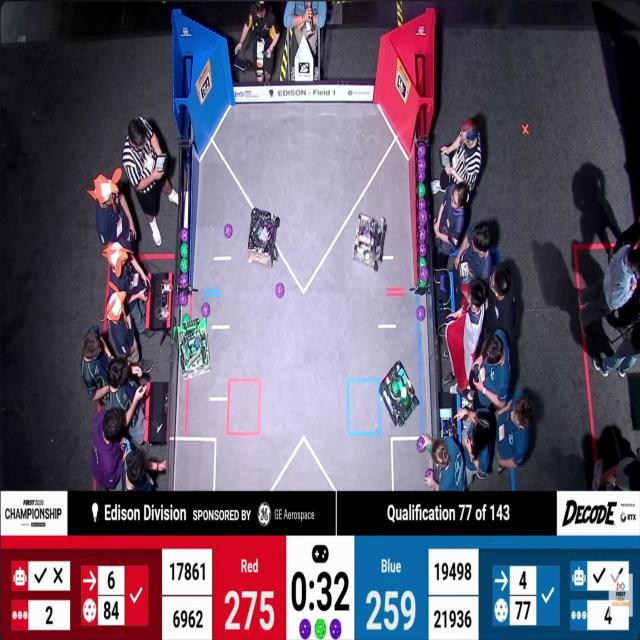artifact_green: (315, 619, 326, 639), (418, 210, 427, 230), (178, 291, 189, 307), (416, 436, 426, 453), (400, 390, 410, 406), (181, 313, 191, 326), (180, 242, 188, 258), (419, 267, 428, 281), (179, 274, 188, 287), (392, 380, 400, 394), (180, 258, 188, 272), (419, 243, 427, 256), (418, 183, 425, 197), (419, 258, 426, 267), (401, 388, 407, 398), (419, 280, 426, 287), (398, 368, 404, 376)
artifact_purple: (299, 619, 311, 639), (330, 619, 341, 639), (416, 436, 426, 453), (179, 228, 189, 243), (418, 211, 427, 227), (178, 292, 188, 306), (440, 274, 447, 293), (417, 305, 425, 321), (179, 273, 188, 287), (224, 224, 233, 238), (419, 267, 428, 281), (276, 283, 284, 298), (418, 157, 425, 173), (202, 303, 210, 317), (418, 143, 425, 158), (419, 243, 427, 256), (419, 228, 426, 242), (419, 198, 426, 211), (418, 172, 425, 182), (426, 469, 432, 478)
